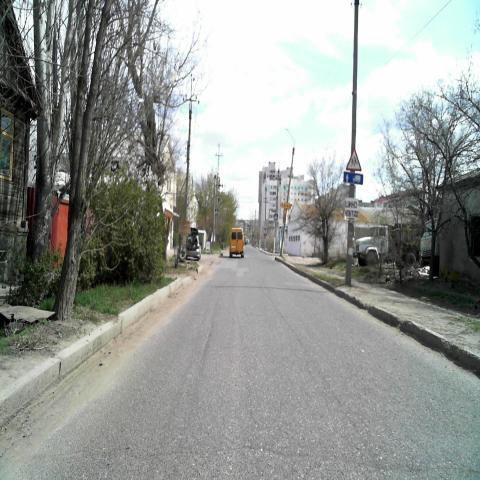6_15_1: (343, 171, 363, 185)
